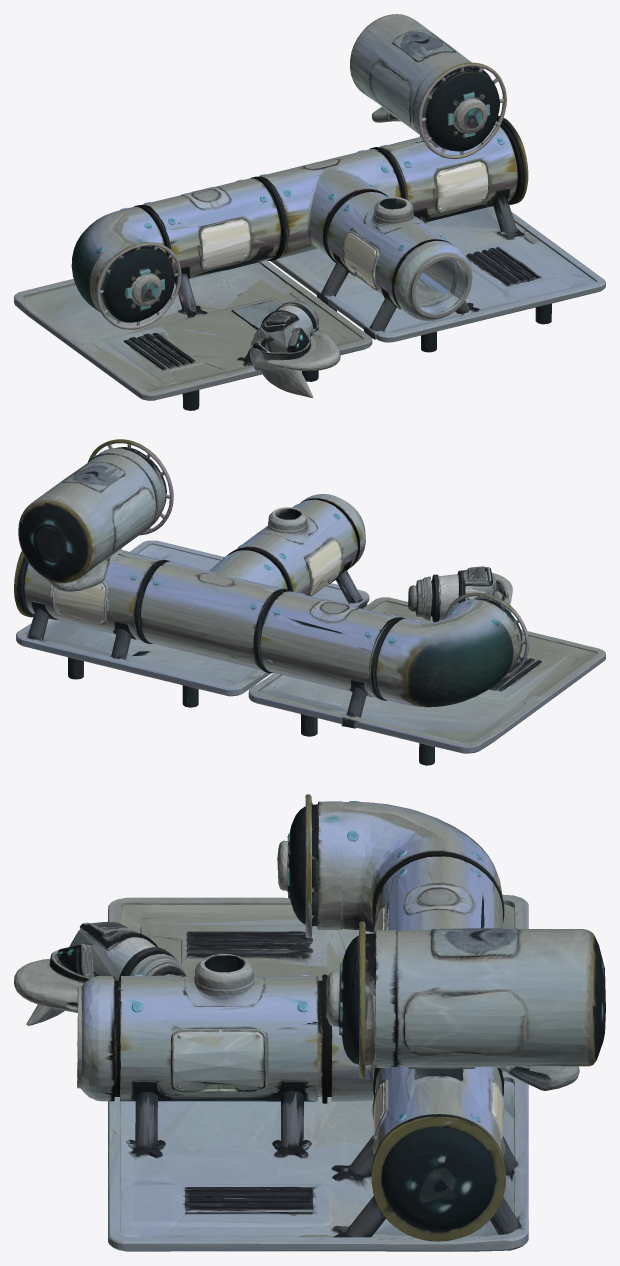
Rendered from modulo.obj.
3 views of the same model, one above another, from view 1: azimuth 30°, elevation 25°; view 2: azimuth 150°, elevation 25°; view 3: azimuth 270°, elevation 25° (orthographic). The views are drawn at different scales.
Parts seen in each view (by area): view 1: modulo; view 2: modulo; view 3: modulo.
Part boxes in pixels (x1=…): modulo: x1=14, y1=14, x2=605, y2=410; modulo: x1=14, y1=439, x2=605, y2=765; modulo: x1=14, y1=794, x2=605, y2=1251.
Bounding box in the file's own units: 0.9999 × 0.4082 × 0.7036.
1 material, 1 textured.
